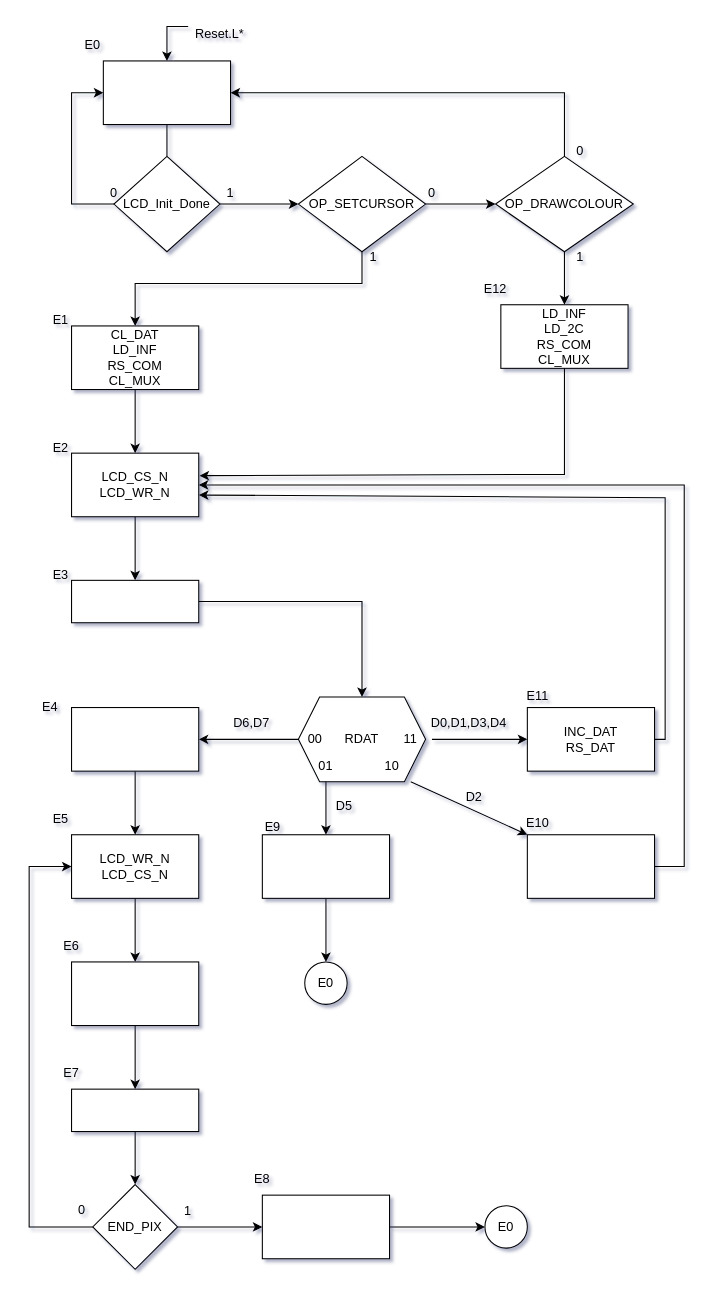
Image size: 718x1294. Some labels were removed from this diagram. Here are the shapes that lost their labels. From the top down, the box of each, then its label:
(102, 60, 231, 125): CL_MUX
(70, 706, 199, 771): RS_DAT INC_DAT
(261, 834, 390, 898): DONE_CURSOR
(526, 834, 655, 898): INC_DAT RS_COM
(70, 961, 199, 1026): DEC_PIX
(261, 1194, 390, 1259): DONE_COLOUR
